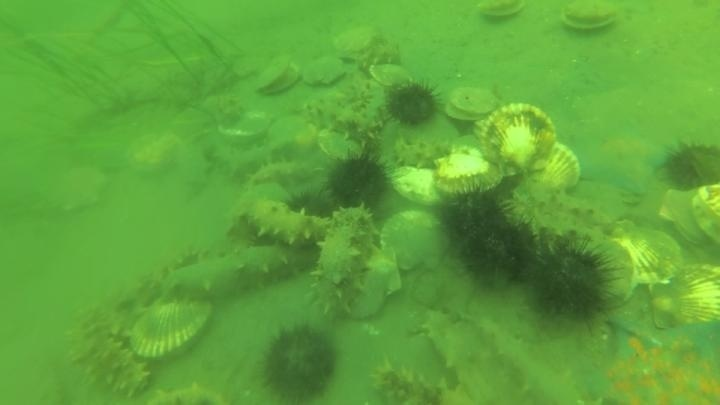echinus: (521, 235, 618, 328), (507, 182, 617, 254), (257, 322, 341, 403), (459, 215, 538, 288), (434, 183, 513, 246), (323, 150, 393, 211), (659, 138, 719, 193), (384, 79, 442, 129), (284, 188, 339, 222)
holothurian: (452, 310, 583, 405), (156, 243, 315, 306), (108, 245, 210, 337), (417, 302, 505, 401), (308, 204, 381, 322), (67, 306, 153, 400), (513, 185, 617, 255), (235, 199, 332, 251), (368, 357, 470, 405), (207, 136, 307, 182), (300, 94, 381, 146), (227, 180, 297, 232), (347, 79, 391, 146), (388, 136, 457, 173), (245, 156, 315, 189), (148, 380, 226, 405)
scallop: (473, 101, 561, 176), (604, 222, 687, 297), (125, 296, 216, 362), (652, 260, 720, 333), (378, 209, 448, 275), (657, 182, 719, 252), (348, 246, 404, 322), (587, 233, 638, 312), (36, 164, 109, 217), (431, 144, 500, 196), (525, 140, 584, 198), (123, 128, 183, 178), (386, 163, 442, 209), (262, 113, 320, 157), (443, 82, 502, 124), (557, 1, 623, 36), (688, 182, 720, 250), (254, 56, 304, 99), (331, 22, 380, 61), (299, 53, 349, 91), (315, 127, 363, 164), (367, 61, 414, 91), (474, 1, 529, 26)
starfish: (582, 308, 720, 405), (570, 121, 668, 198)
